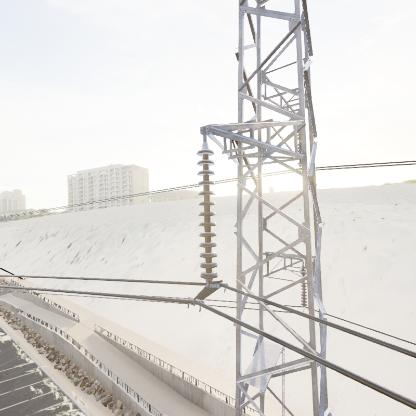insulator: (194, 146, 221, 286)
